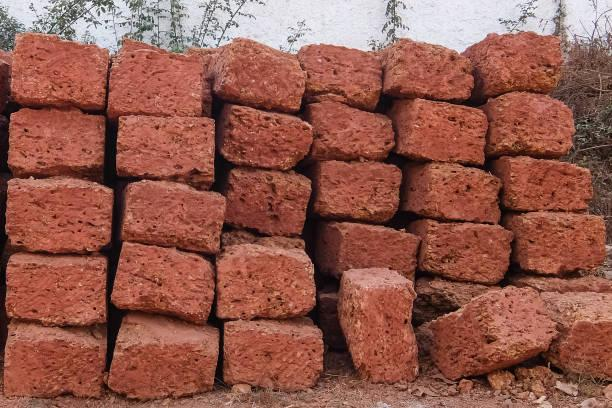brick: (111, 243, 211, 322), (6, 182, 111, 251), (13, 32, 108, 104), (110, 42, 206, 112), (217, 250, 312, 317), (109, 339, 216, 398), (9, 261, 106, 326), (227, 329, 323, 391), (123, 182, 224, 240), (6, 339, 101, 399), (224, 40, 306, 108), (9, 112, 103, 171), (119, 117, 213, 174), (408, 99, 489, 164), (428, 220, 511, 283), (363, 283, 414, 384), (227, 171, 309, 233), (528, 213, 607, 276), (227, 111, 311, 168), (493, 92, 573, 150), (322, 159, 401, 217), (307, 44, 383, 102), (316, 104, 398, 156), (432, 163, 502, 223), (399, 40, 472, 97), (490, 32, 563, 88), (511, 161, 592, 211), (342, 227, 420, 274)
